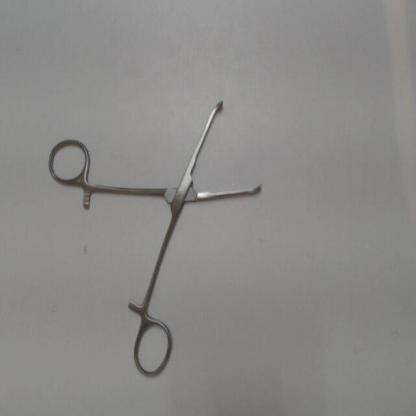Allis Tissue Forceps: (40, 87, 276, 389)
